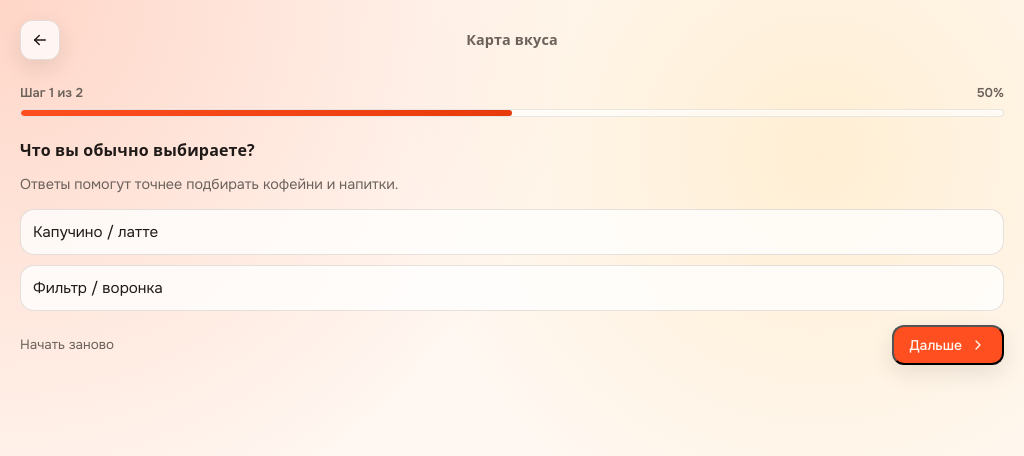
Scenario: TasteOnboardingPage › keeps friendlier wording for everyday drinkers on the final step
This screenshot has width=1024, height=456.
Expected: the heading "Что вы обычно выбираете?" is shown, 20,139 -> 255,161
Click the button "Капучино / латте": x=96, y=232 20,208 -> 1004,254
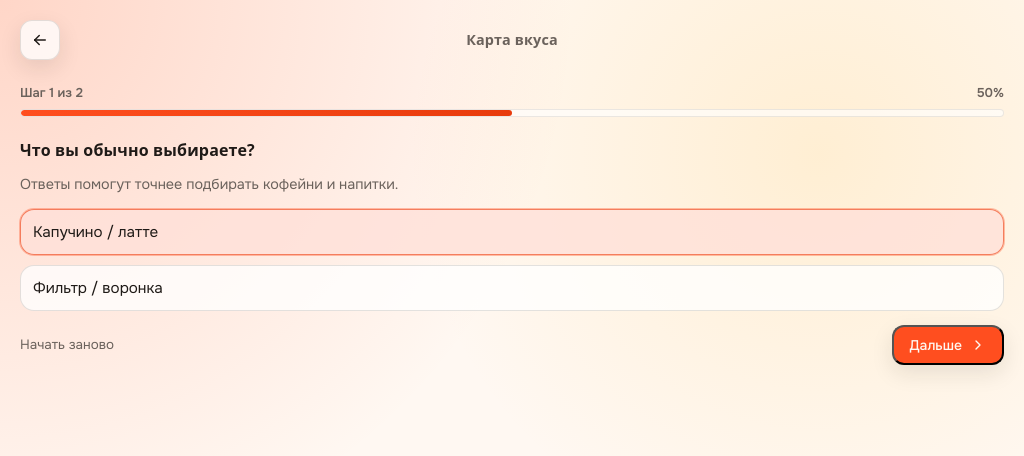
Click the button "Дальше": x=948, y=344 892,324 -> 1004,364
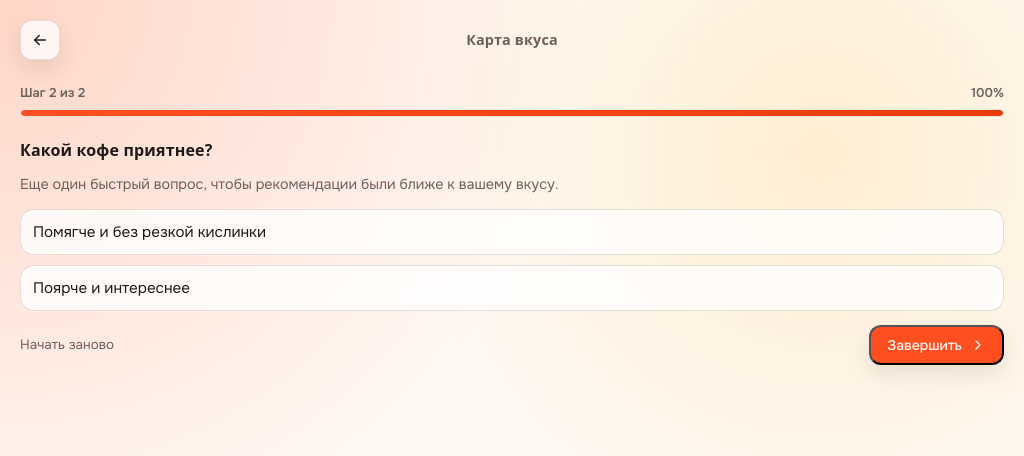
Result: the heading "Какой кофе приятнее?" is shown at 20,139 -> 212,161
Result: the button "Помягче и без резкой кислинки" is shown at 20,208 -> 1004,254
